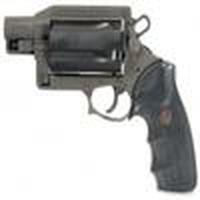gun: (4, 7, 197, 191)
